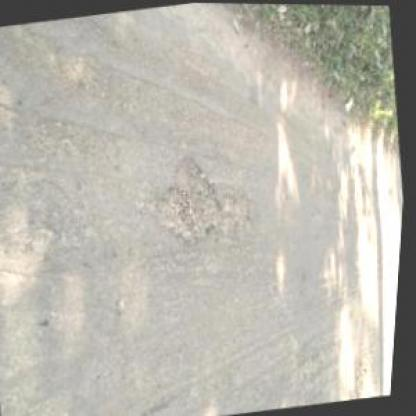pothole: (146, 147, 259, 252), (348, 340, 387, 398)
